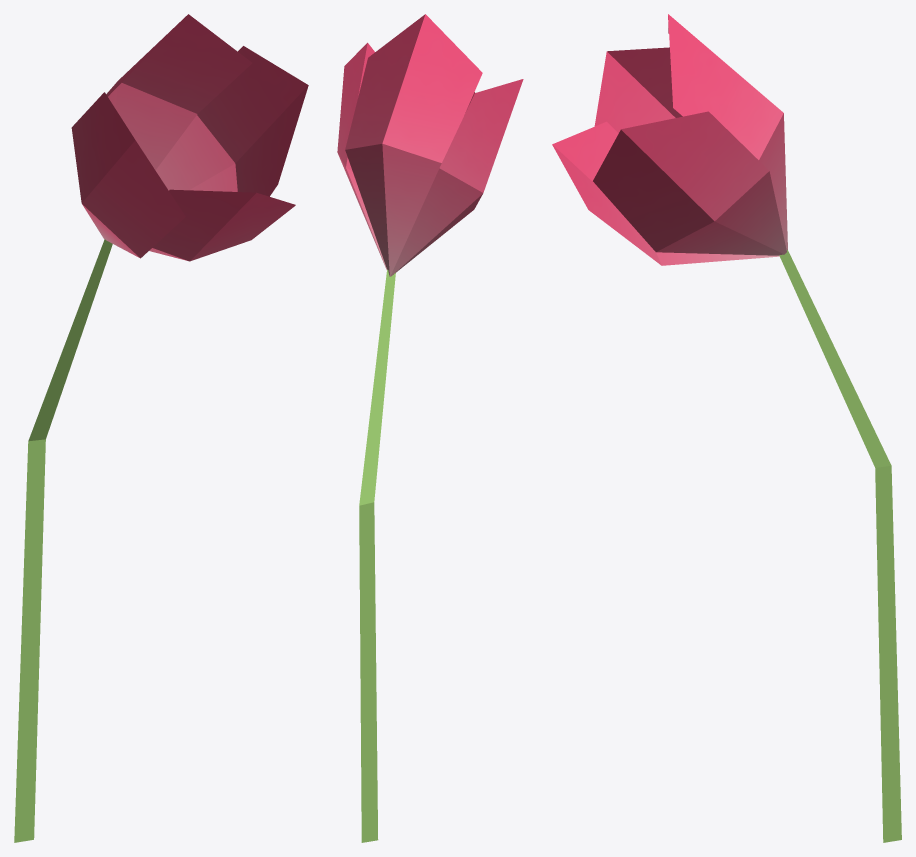
Rendered from Flower_f_TwoS_02.fbx.
3 views of the same model, side by side, from view 1: azimuth 30°, elevation 25°; view 2: azimuth 150°, elevation 25°; view 3: azimuth 270°, elevation 25° (orthographic). The views are drawn at different scales.
Parts seen in each view (by area): view 1: Flower_f_TwoS_02; view 2: Flower_f_TwoS_02; view 3: Flower_f_TwoS_02.
Part boxes in pixels (box(x1,y1,x2,y2)): Flower_f_TwoS_02: box(14, 14, 308, 842); Flower_f_TwoS_02: box(337, 14, 523, 842); Flower_f_TwoS_02: box(552, 14, 901, 842).
Size of the model in its own units: 0.1176 by 0.5506 by 0.206.
